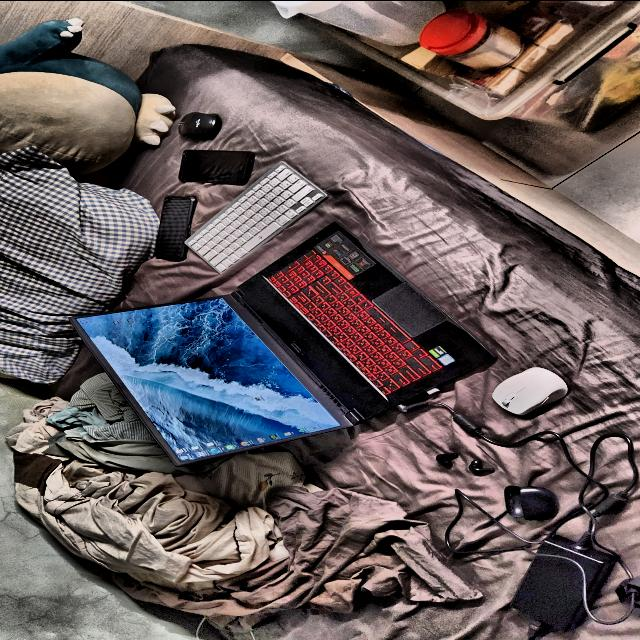Bluetooth headphones: (504, 485, 558, 519), (468, 458, 495, 476), (436, 452, 459, 468)
Keyboard: (184, 162, 328, 272)
Laptop: (71, 221, 496, 465)
MOUSE: (493, 367, 568, 413), (178, 111, 222, 139)
PHONE: (155, 194, 197, 260), (179, 149, 254, 184)
